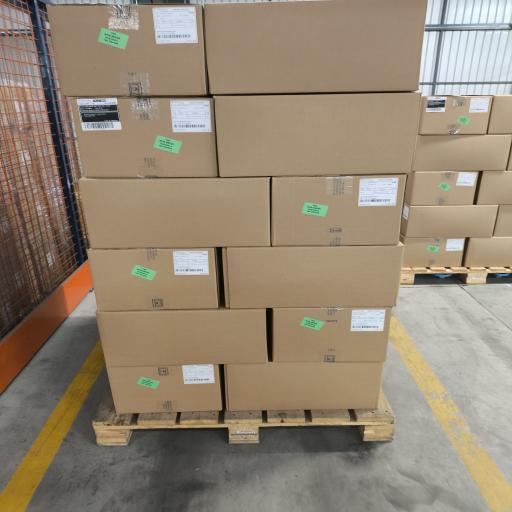pallet: (93, 389, 394, 445), (401, 267, 511, 284)
